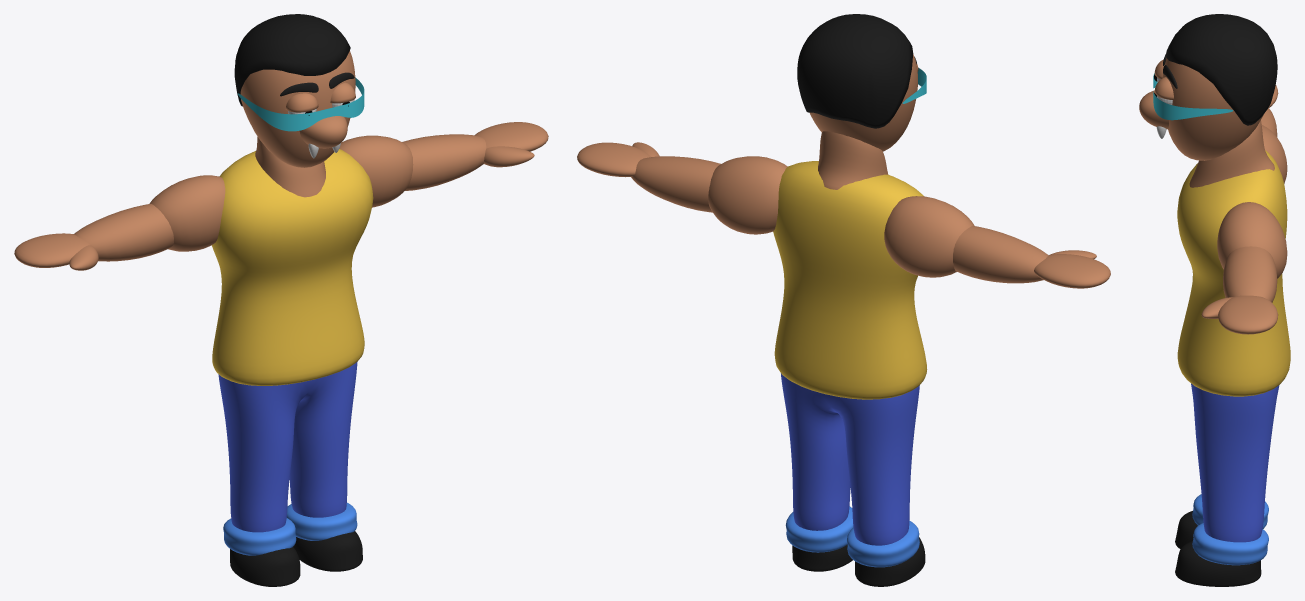
The model's file is Jorge.fbx.
3 renders of one model, left to right at view 1: azimuth 30°, elevation 25°; view 2: azimuth 150°, elevation 25°; view 3: azimuth 270°, elevation 25°, orthographic.
Parts seen in each view (by area): view 1: Cube.003, Cube.007, Cube.012, Plane.002, Cube, Cube.010, Cube.002, Plane, Cube.001, Cube.005; view 2: Cube.003, Cube.012, Cube.007, Plane.002, Cube.002, Cube.010, Cube; view 3: Cube.003, Cube.007, Cube.012, Plane.002, Cube, Cube.010, Cube.002, Plane, Cube.001, Cube.005.
Boxes of the visible parts, x1,y1,x2,y2 form: Cube.003: (212,149,373,385); Cube.007: (218,361,357,555); Cube.012: (14,122,548,270); Plane.002: (234,14,350,106); Cube: (240,51,355,167); Cube.010: (230,531,362,586); Cube.002: (255,136,325,197); Plane: (237,77,364,131); Cube.001: (299,116,347,148); Cube.005: (285,82,355,112); Cube.003: (773,161,927,399); Cube.012: (577,142,1110,288); Cube.007: (781,373,919,567); Plane.002: (797,14,913,128); Cube.002: (818,131,888,189); Cube.010: (792,537,925,586); Cube: (810,54,917,151); Cube.003: (1177,150,1290,396); Cube.007: (1191,383,1279,565); Cube.012: (1201,85,1287,334); Plane.002: (1166,14,1277,125); Cube: (1162,58,1263,160); Cube.010: (1175,511,1261,586); Cube.002: (1189,120,1274,187); Plane: (1153,73,1233,120); Cube.001: (1139,90,1168,129); Cube.005: (1154,59,1174,100).
Bounding box in the file's own units: 239 × 237 × 60.11.
